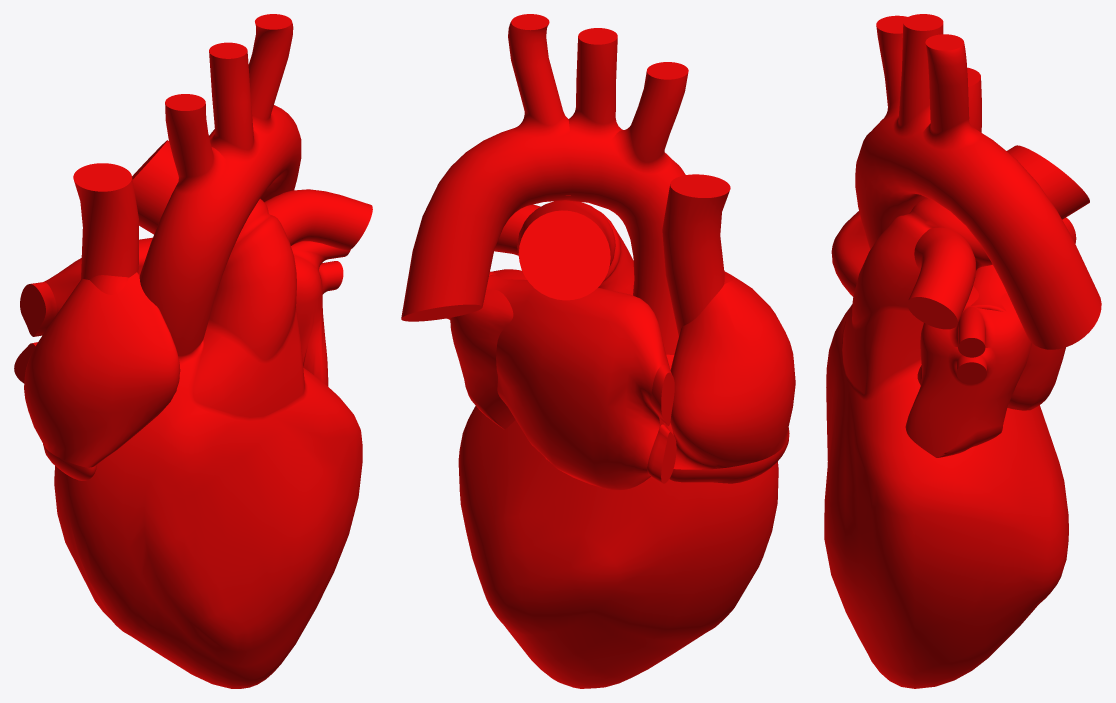
Rendered from heart.glb.
3 renders of one model, left to right at view 1: azimuth 30°, elevation 25°; view 2: azimuth 150°, elevation 25°; view 3: azimuth 270°, elevation 25°, orthographic. The views are drawn at different scales.
Parts seen in each view (by area): view 1: Human Heart; view 2: Human Heart; view 3: Human Heart.
Boxes of the visible parts, x1,y1,x2,y2 form: Human Heart: (14,14,372,688); Human Heart: (401,14,795,688); Human Heart: (824,14,1101,688).
Bounding box in the file's own units: 0.1476 × 0.2682 × 0.1011.
